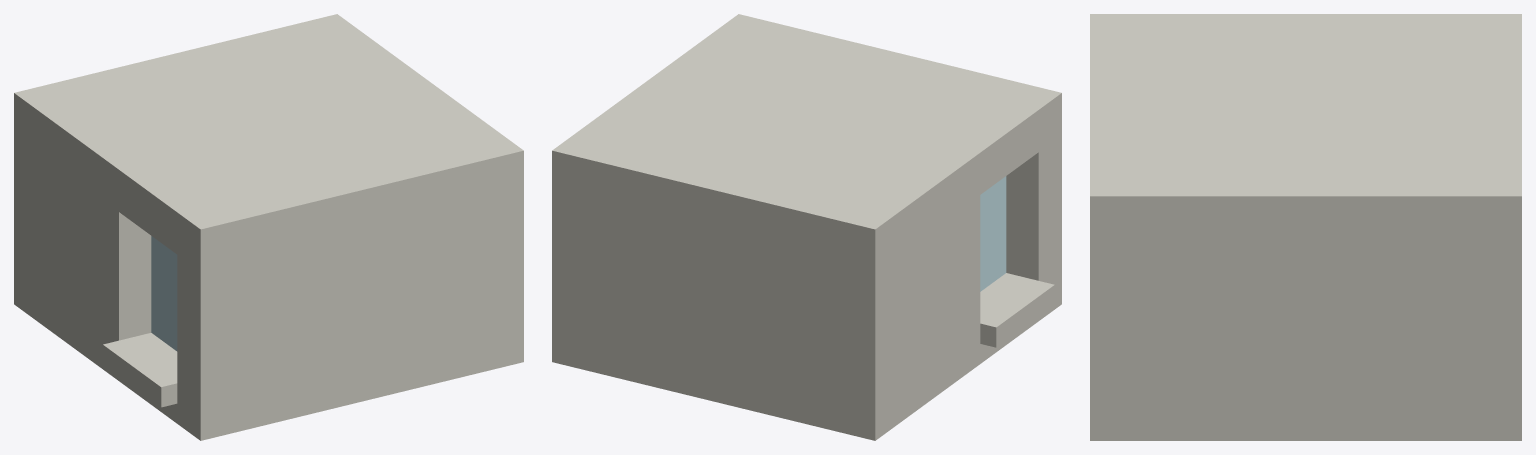
The model's file is modularBuildings_067.gltf.
3 renders of one model, left to right at view 1: azimuth 30°, elevation 25°; view 2: azimuth 150°, elevation 25°; view 3: azimuth 270°, elevation 25°, orthographic. The views are drawn at different scales.
Visible parts, largest first — view 1: Mesh1 Group1 Model; view 2: Mesh1 Group1 Model; view 3: Mesh1 Group1 Model.
Part boxes in pixels (x1=…): Mesh1 Group1 Model: x1=14, y1=14, x2=523, y2=440; Mesh1 Group1 Model: x1=552, y1=14, x2=1061, y2=440; Mesh1 Group1 Model: x1=1090, y1=14, x2=1521, y2=440.
Size of the model in its own units: 1.05 by 0.625 by 1.
